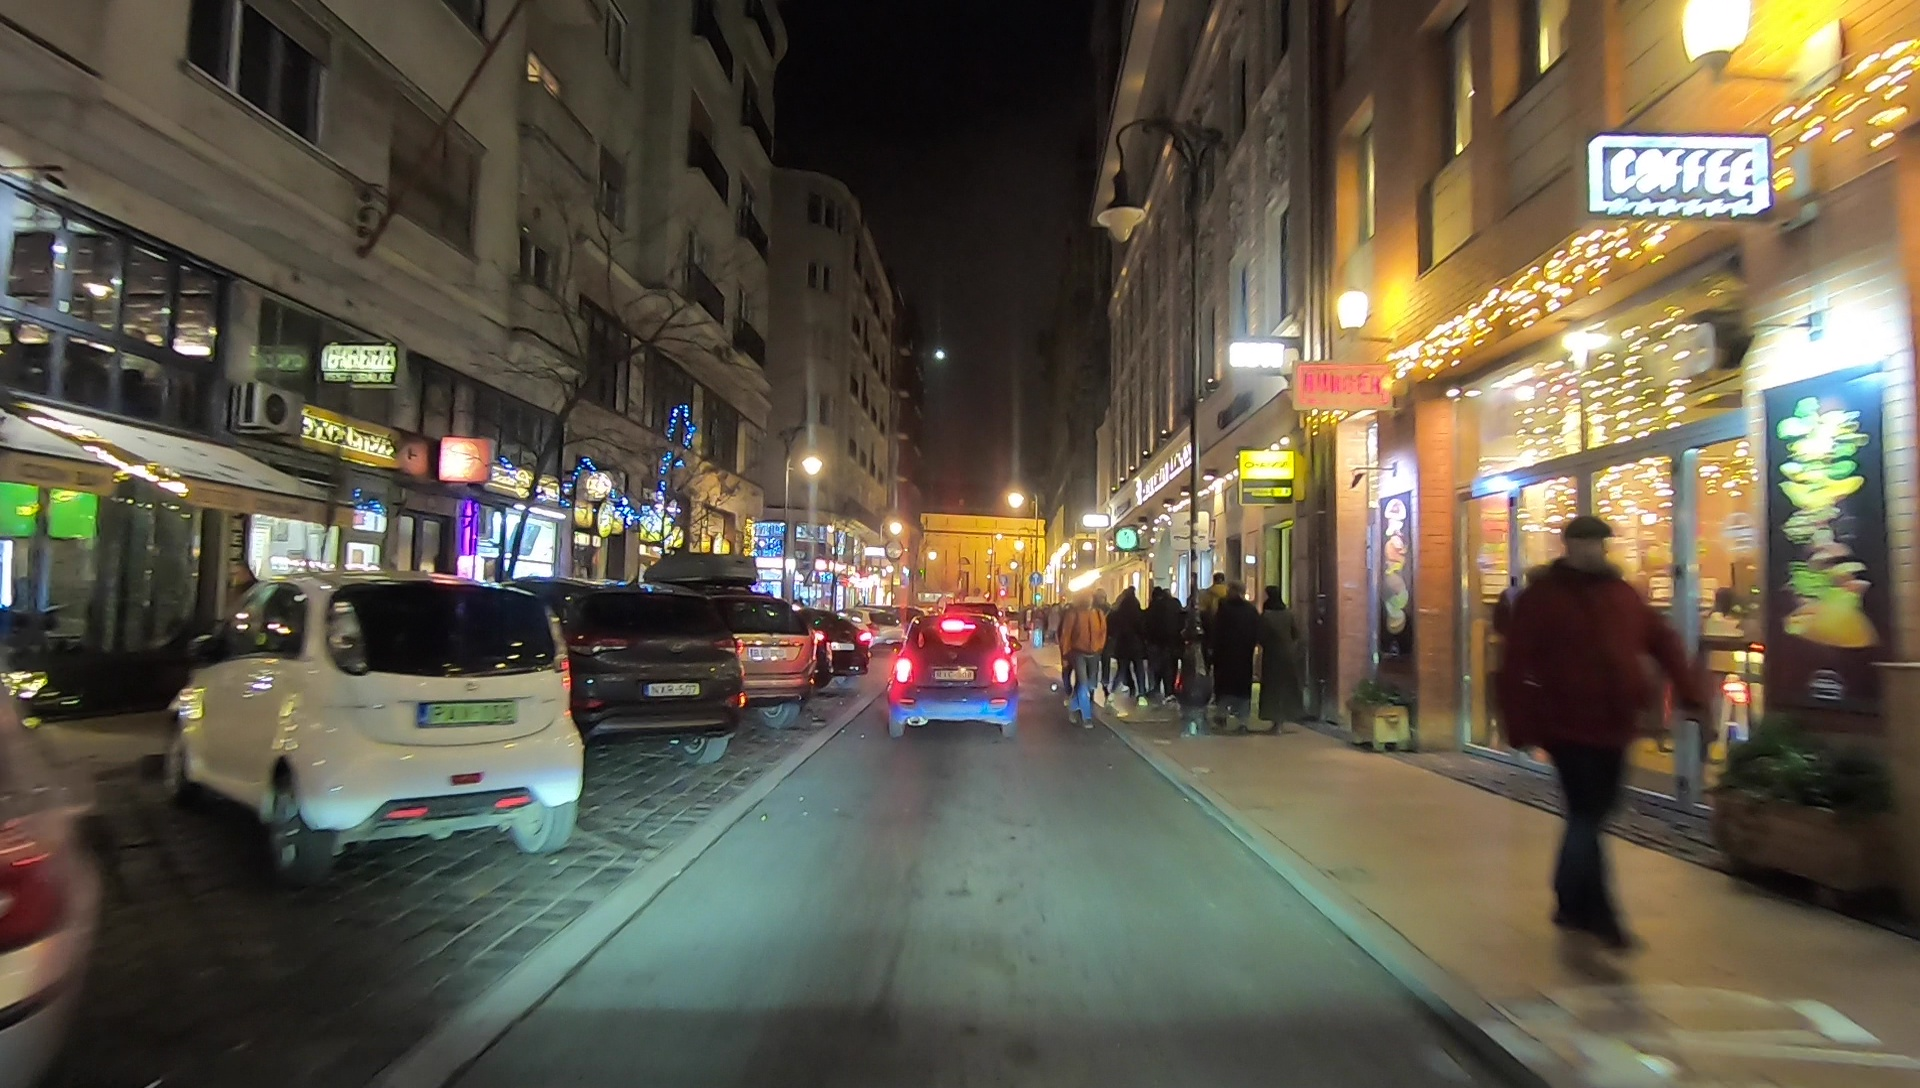person: (1514, 521, 1673, 956), (1062, 587, 1106, 728), (1259, 586, 1302, 733), (1219, 580, 1259, 721), (1152, 583, 1182, 700), (1114, 584, 1139, 713)
